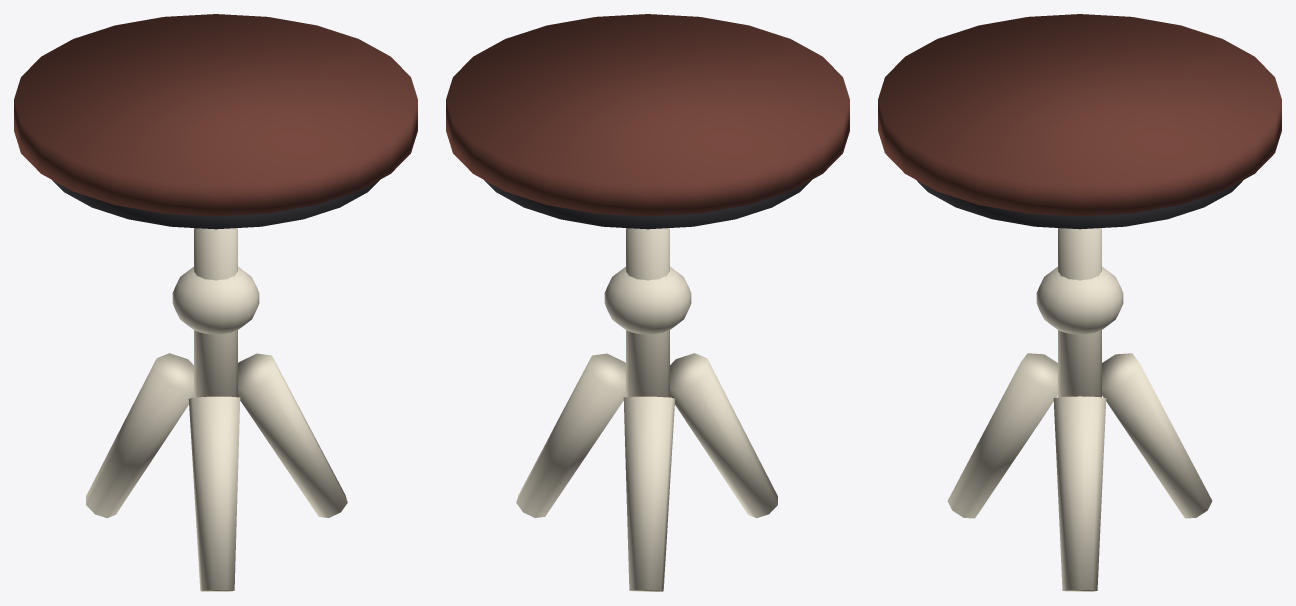
File: side_table.glb
The picture shows the model from 3 angles, left to right: view 1: azimuth 30°, elevation 25°; view 2: azimuth 150°, elevation 25°; view 3: azimuth 270°, elevation 25°; orthographic projection.
Parts seen in each view (by area): view 1: GD_side_table; view 2: GD_side_table; view 3: GD_side_table.
Part boxes in pixels (x1,y1,x2,y2): GD_side_table: [14, 14, 417, 591]; GD_side_table: [446, 14, 849, 591]; GD_side_table: [878, 14, 1281, 591].
Size of the model in its own units: 0.46 by 0.5561 by 0.46.
